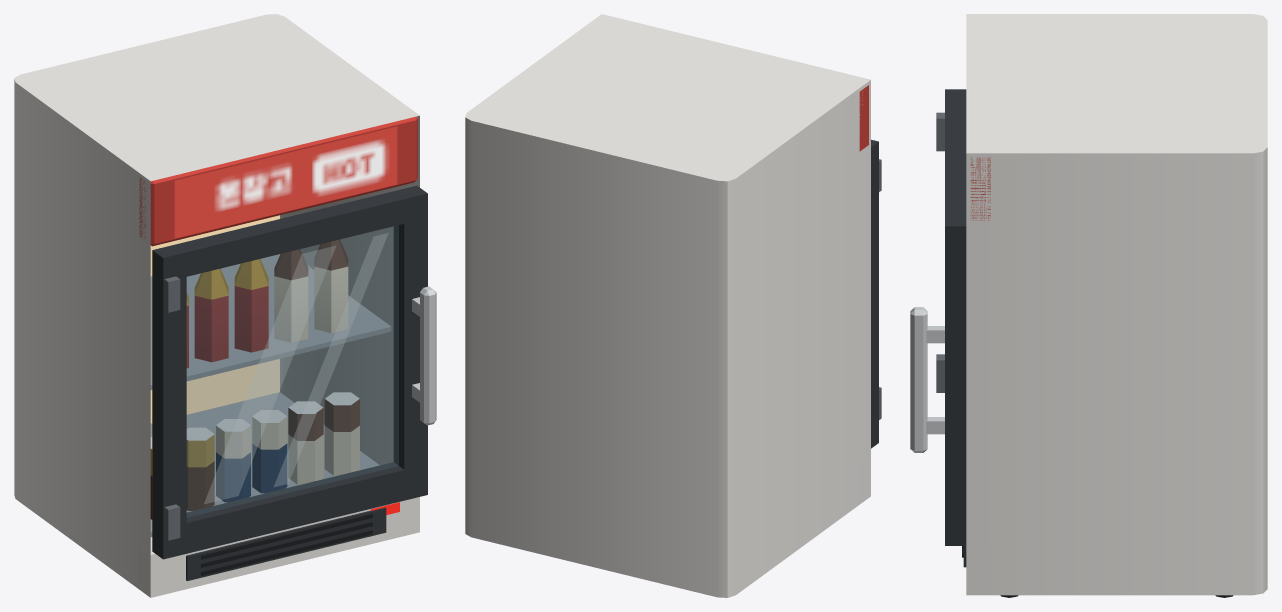
Rendered from SC_Fix_Warmer_Cabinet.gltf.
3 views of the same model, side by side, from view 1: azimuth 30°, elevation 25°; view 2: azimuth 150°, elevation 25°; view 3: azimuth 270°, elevation 25° (orthographic). The views are drawn at different scales.
Visible parts, largest first — view 1: SC_Fix_Warmer_Cabinet; view 2: SC_Fix_Warmer_Cabinet; view 3: SC_Fix_Warmer_Cabinet.
Part boxes in pixels (x1,y1,x2,y2): SC_Fix_Warmer_Cabinet: [14, 14, 436, 597]; SC_Fix_Warmer_Cabinet: [465, 14, 881, 597]; SC_Fix_Warmer_Cabinet: [910, 14, 1267, 597].
Bounding box in the file's own units: 0.46 × 0.7 × 0.498.
Materials: 4 (4 with a texture image).
